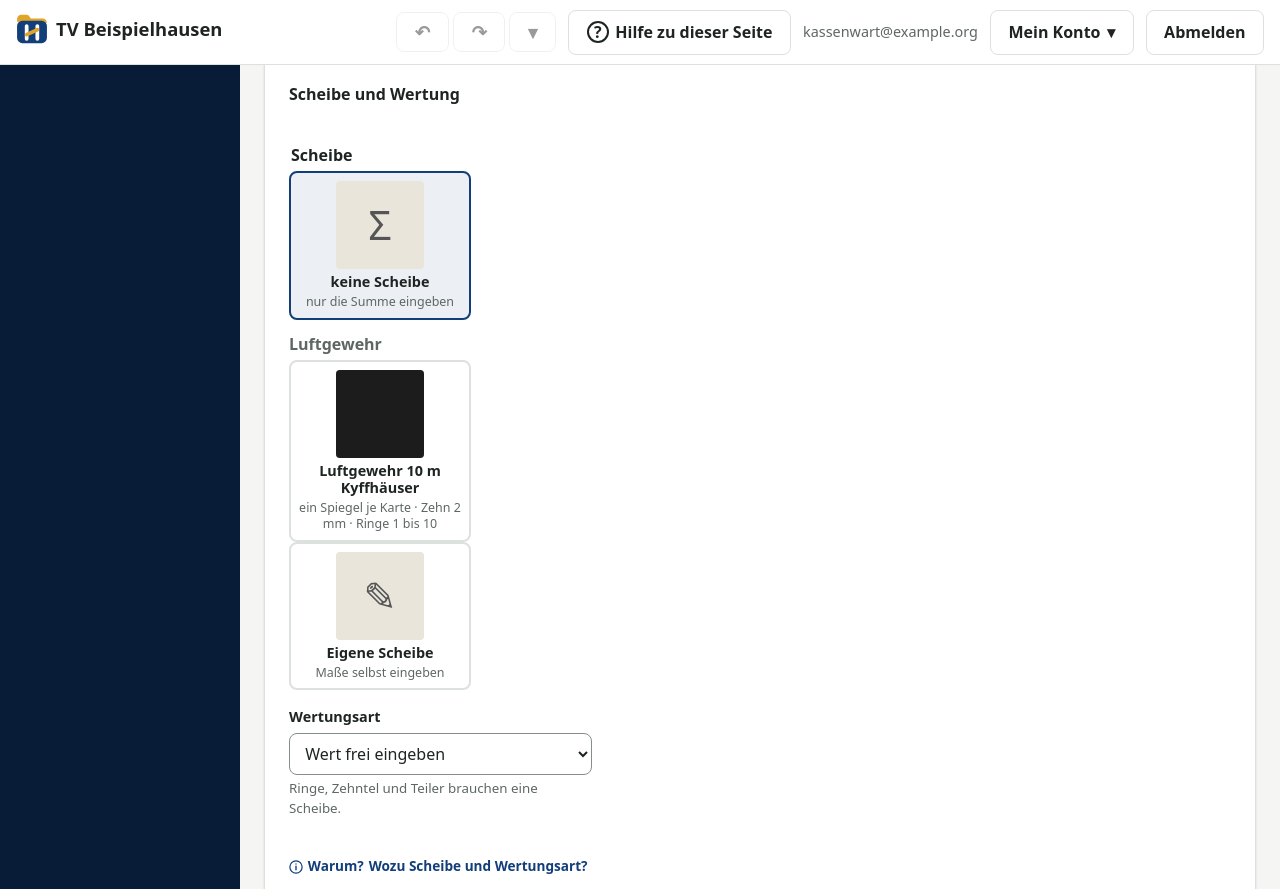
it: Scheibe und Wertung › stellt Scheibe, Wertungsart und Gleichstandsregeln ein
This screenshot has width=1280, height=889.
(page scrolled)
Expected: the icon with class "target-preview" is shown, [336, 370, 424, 458]
Click the radio button labelled "Luftgewehr 10 m Kyffhäuser" at [380, 451], box [289, 360, 471, 542]
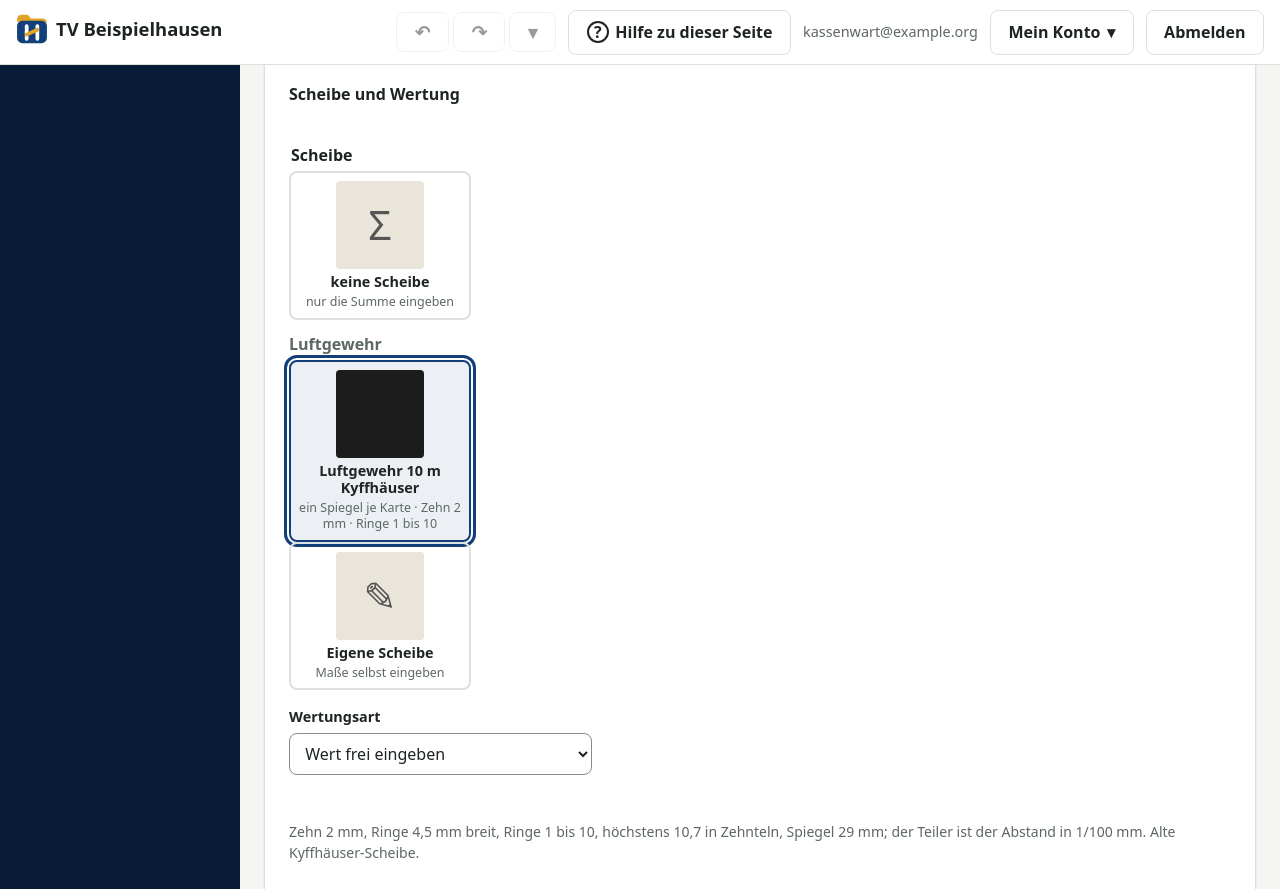
Expected: the text "Alte Kyffhäuser-Scheibe" is shown, [289, 822, 1176, 862]
Select "Ringe" in the dropdown labelled "Wertungsart" at [441, 754], box [289, 733, 592, 775]
(page scrolled)
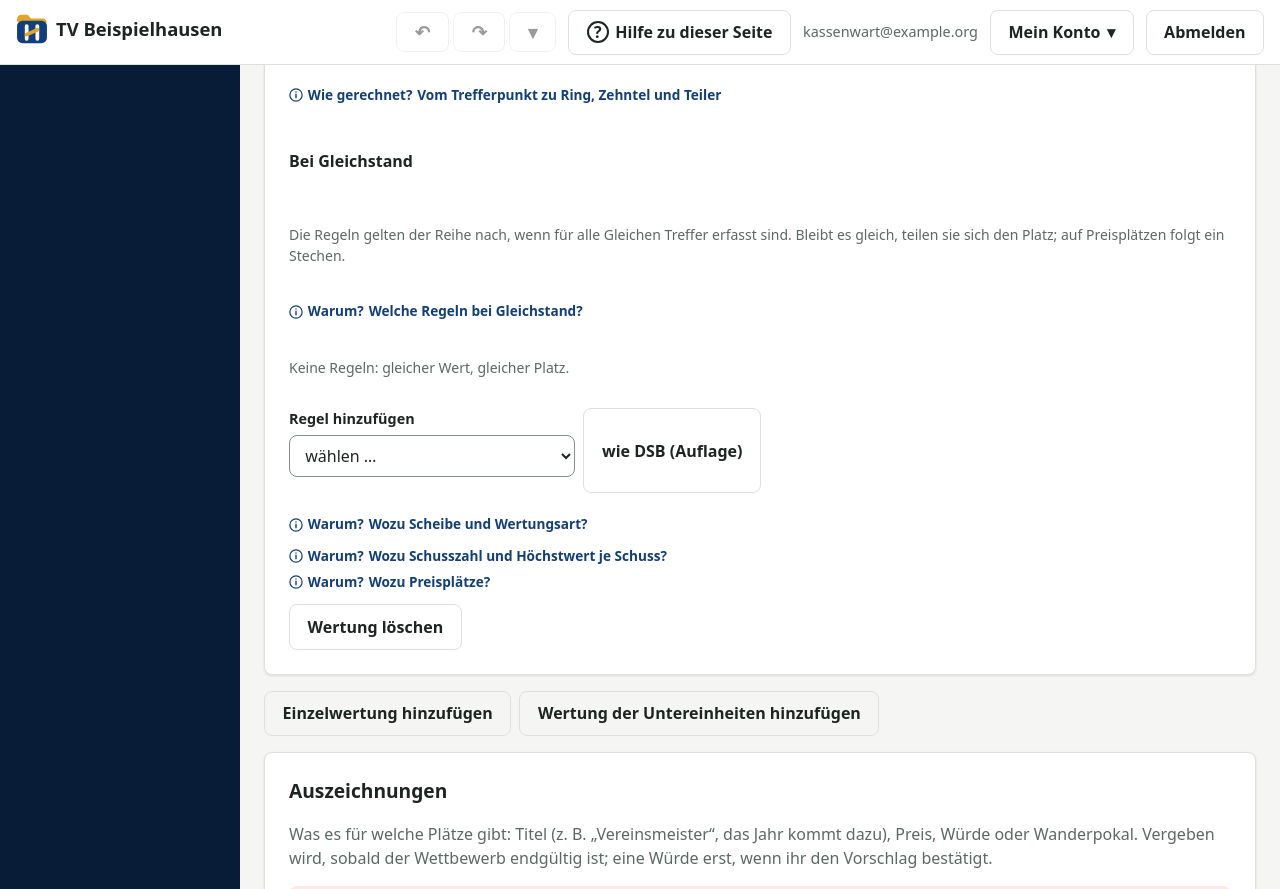
Click the button "wie DSB (Auflage)" at [672, 451], box [583, 408, 761, 493]
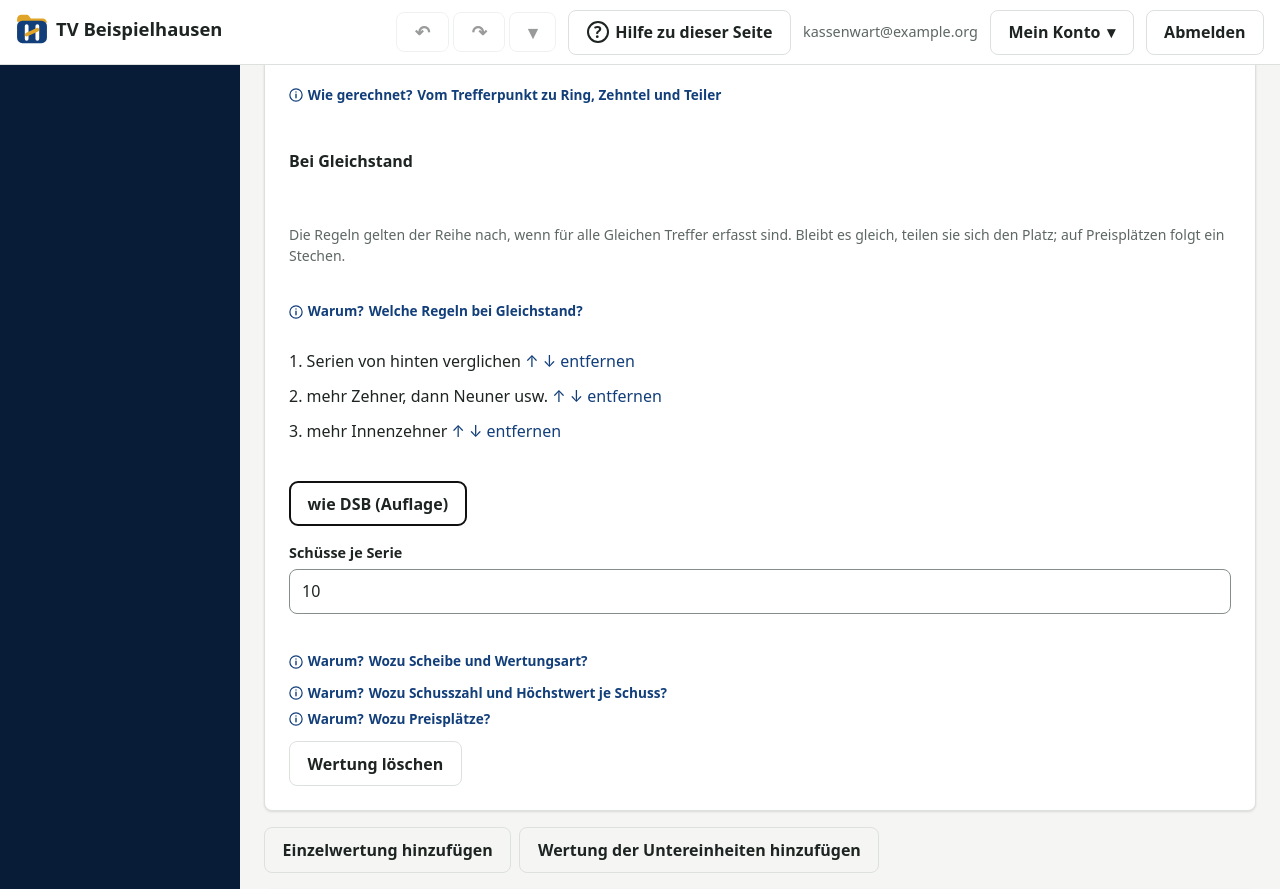
Expected: the list item "1. Serien von hinten verglichen ↑ ↓ entfernen" is shown, [289, 349, 635, 373]
